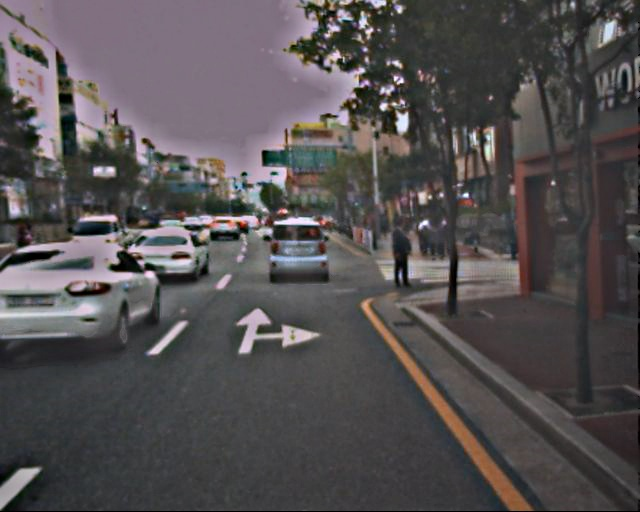person: (387, 221, 415, 289), (415, 216, 450, 259)
